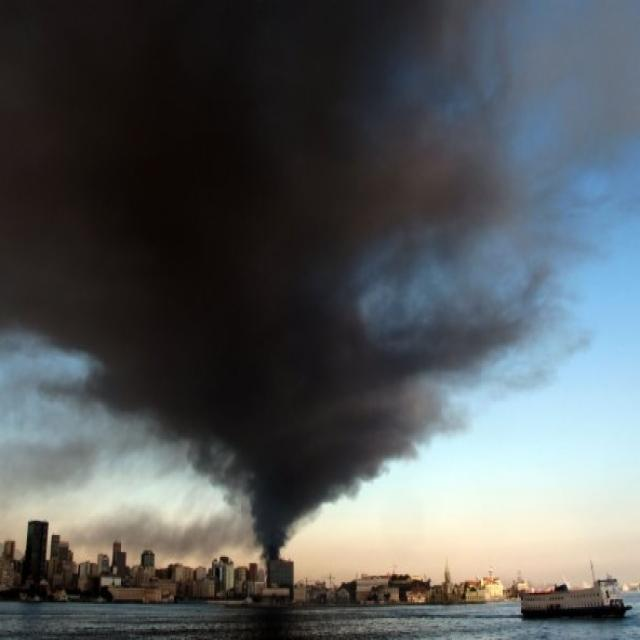Smoke: (9, 8, 516, 556)
